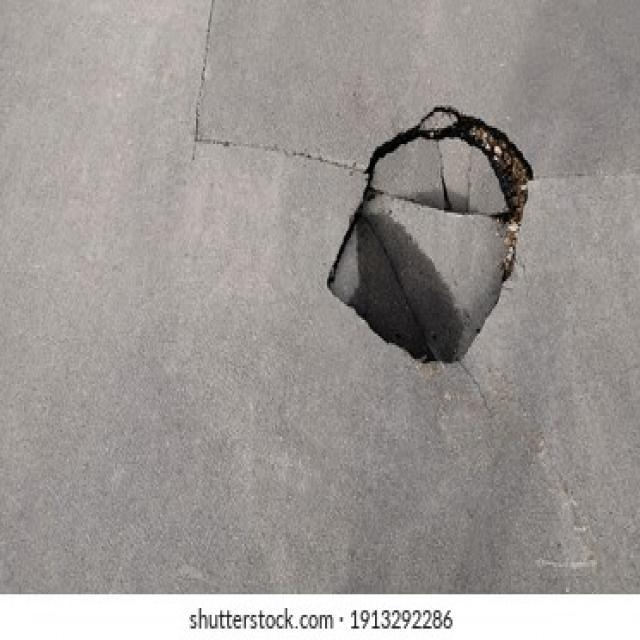Pothole: (323, 102, 535, 370)
